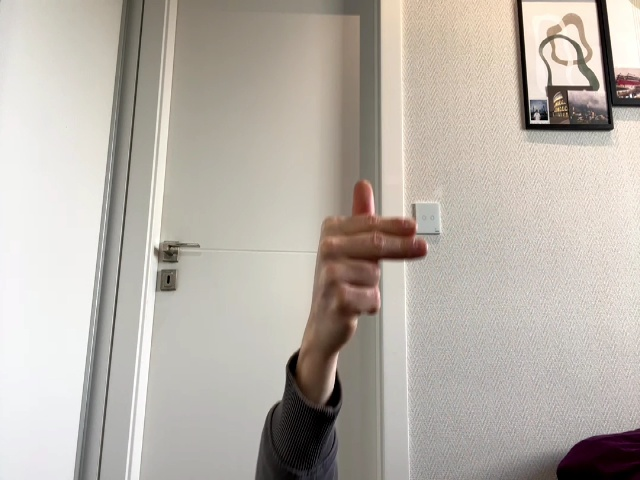N: (316, 180, 427, 326)
